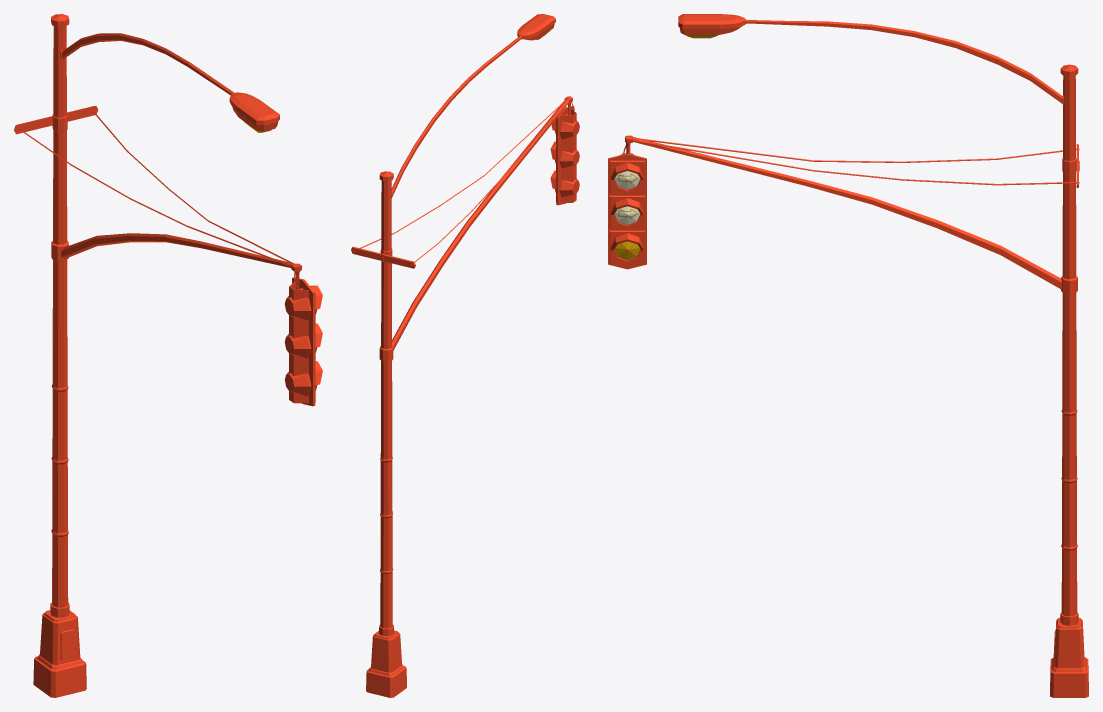
File: SM_Lamp_Light_B_City.fbx
The picture shows the model from 3 angles, left to right: view 1: azimuth 30°, elevation 25°; view 2: azimuth 150°, elevation 25°; view 3: azimuth 270°, elevation 25°; orthographic projection. The views are drawn at different scales.
Visible parts, largest first — view 1: SM_Lamp_Light_B_City; view 2: SM_Lamp_Light_B_City; view 3: SM_Lamp_Light_B_City.
Part boxes in pixels (x1=…): SM_Lamp_Light_B_City: x1=14, y1=14, x2=322, y2=697; SM_Lamp_Light_B_City: x1=351, y1=14, x2=579, y2=697; SM_Lamp_Light_B_City: x1=608, y1=14, x2=1088, y2=697.
Size of the model in its own units: 0.8104 by 6.64 by 4.3.
